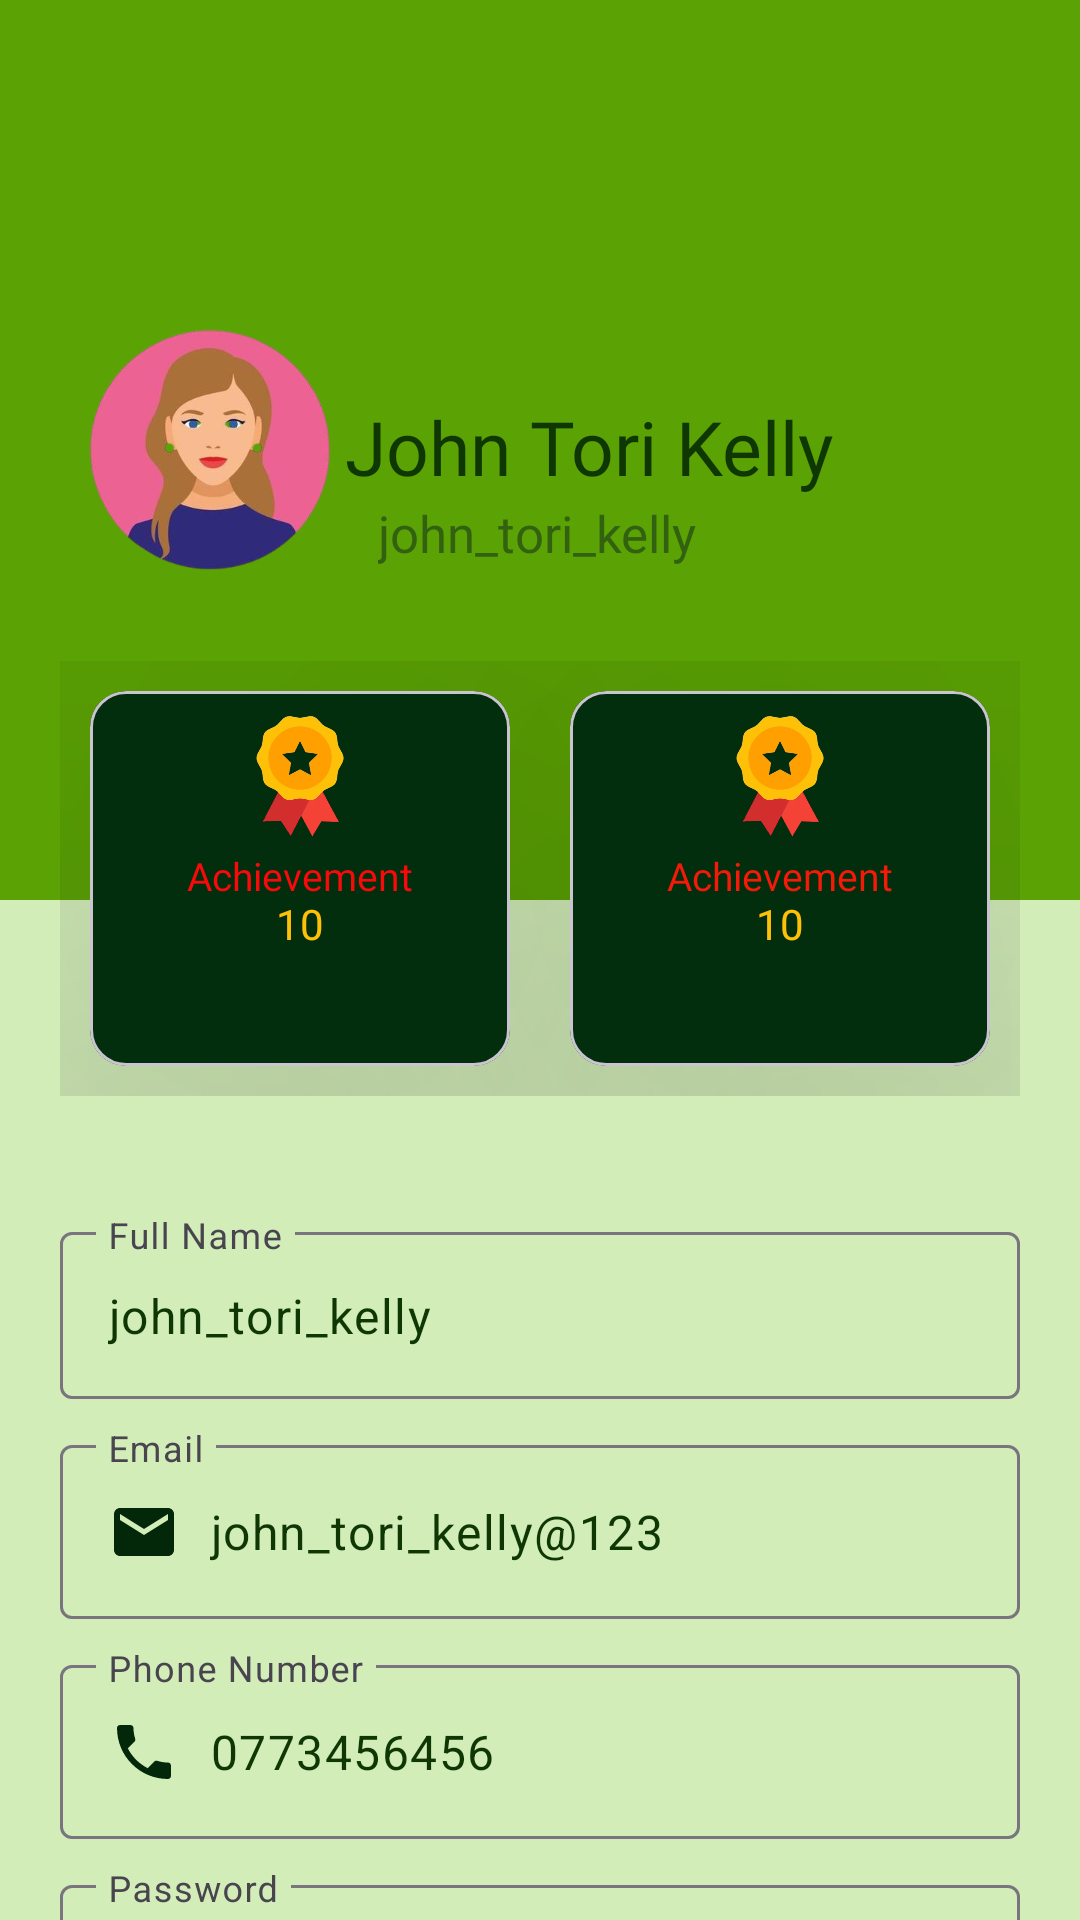

Point at icon controls on the screen. Image size 1080w x 1920h, points as (x,y).
profile: (210,449)
